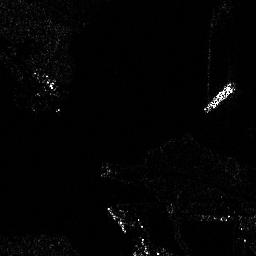ship: (202, 82, 237, 113)
